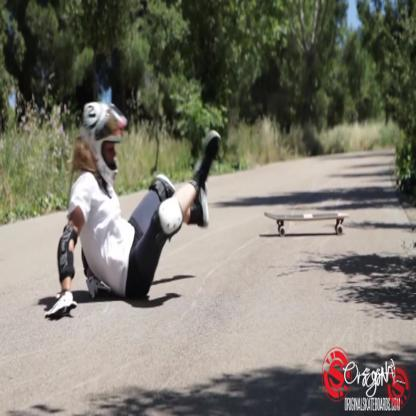Fall_Down: (43, 111, 221, 322)
